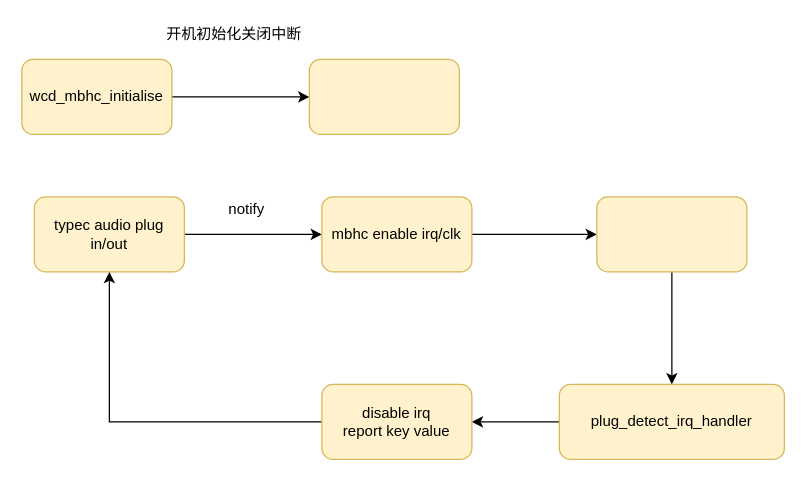
This 806x481 diagram has some shape labels left out. Here are the shapes that lost their labels. From the top down, the centre of each, then its label:
At [383,96]: "disable irq".
At [671,234]: "HS_DET irq".
